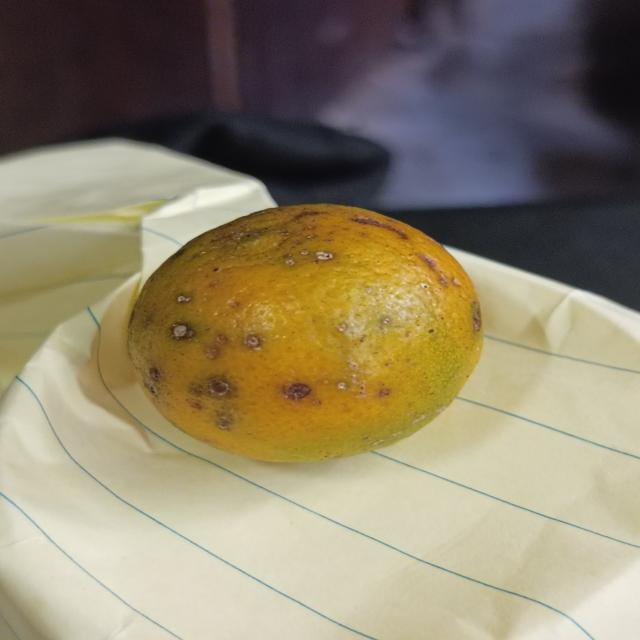black spot: (126, 200, 483, 466)
